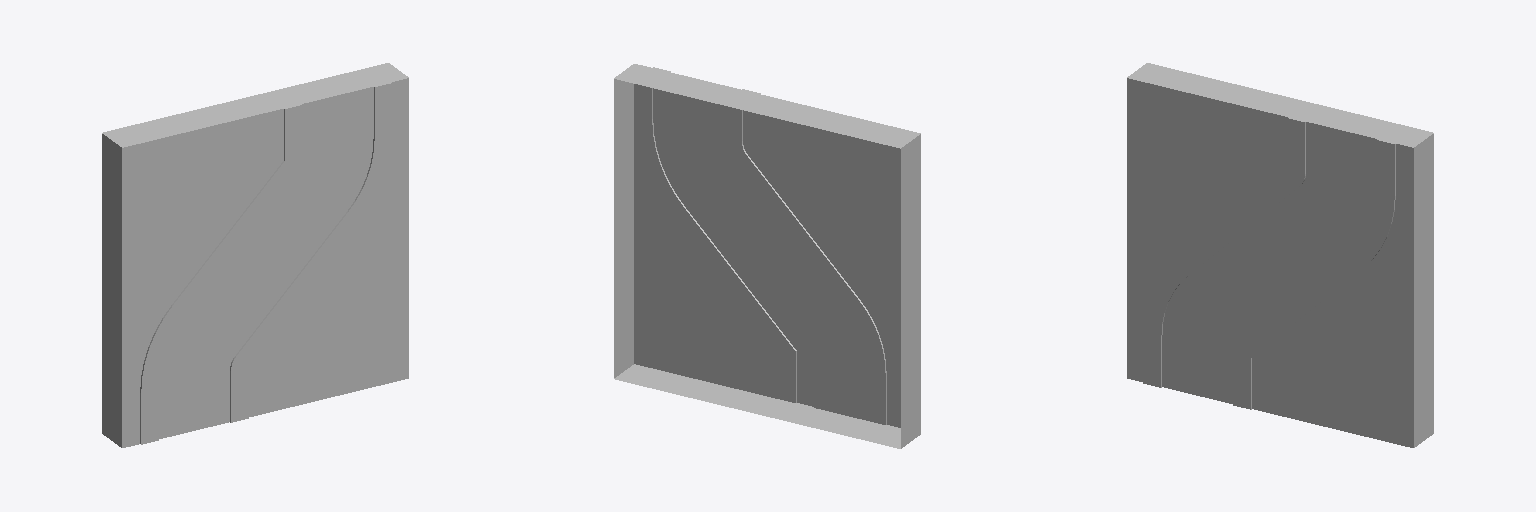
Rendered from track-left-right-large.obj.
3 views of the same model, side by side, from view 1: azimuth 30°, elevation 25°; view 2: azimuth 150°, elevation 25°; view 3: azimuth 330°, elevation 25° (orthographic).
Visible parts, largest first — view 1: track-left-right-large_Cube.053; view 2: track-left-right-large_Cube.053; view 3: track-left-right-large_Cube.053.
Boxes of the visible parts, x1=… form: track-left-right-large_Cube.053: x1=102, y1=63, x2=408, y2=447; track-left-right-large_Cube.053: x1=614, y1=64, x2=920, y2=448; track-left-right-large_Cube.053: x1=1127, y1=63, x2=1433, y2=447.
Bounding box in the file's own units: 16 × 16 × 2.1.